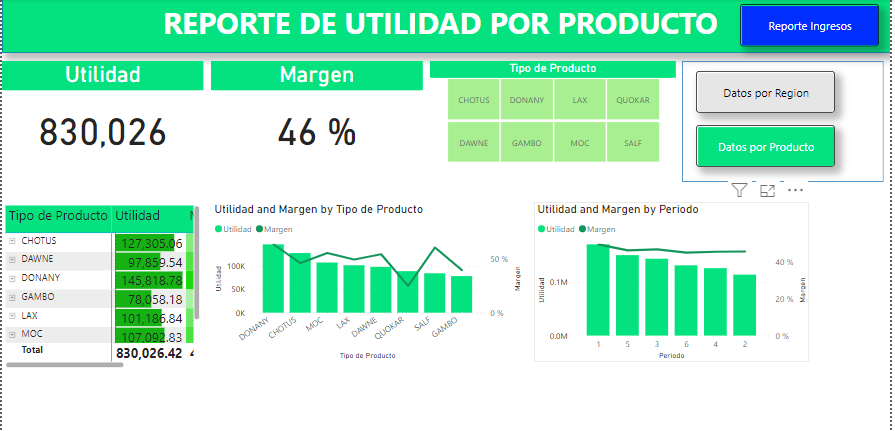

Layout of this report page (visuals, bound fields, positions):
{"tool":"powerbi","page":{"name":"Utilidad Producto","canvas":[1280,720],"ordinal":6},"visuals":[{"type":"shape","box":[978.7,89.1,290.3,173.9],"z":0},{"type":"shape","box":[0,0,1280.5,77.6],"z":1000},{"type":"card","title":"Utilidad","fields":{"Values":["Finanzas1.Utilidad"]},"box":[0,89.1,290.3,152.3],"z":2000},{"type":"card","title":"Margen","fields":{"Values":["Finanzas1.Margen"]},"box":[300.4,89.1,304.7,152.3],"z":3000},{"type":"slicer","title":"Tipo de Producto","fields":{"Values":["LookupProducto.Tipo de Producto"]},"box":[616.5,89.1,353.5,152.3],"z":4000},{"type":"pivotTable","fields":{"Rows":["LookupProducto.Tipo de Producto","Finanzas1.Producto"],"Values":["Finanzas1.Utilidad","Finanzas1.Margen"]},"box":[0,291.7,290.3,244.3],"z":5000},{"type":"lineClusteredColumnComboChart","fields":{"Y":["Finanzas1.Utilidad"],"Y2":["Finanzas1.Margen"],"Category":["Finanzas1.Periodo"]},"box":[766,291.7,396.6,231.4],"z":6000},{"type":"lineClusteredColumnComboChart","fields":{"Y":["Finanzas1.Utilidad"],"Y2":["Finanzas1.Margen"],"Category":["LookupProducto.Tipo de Producto"]},"box":[300.4,291.7,451.2,231.4],"z":7000},{"type":"textbox","box":[163,0,936.3,77],"z":8000},{"type":"actionButton","title":"Producto","box":[998.8,181.1,199.8,60.4],"z":9000},{"type":"actionButton","title":"Region","box":[998.8,103.5,200,60],"z":10000},{"type":"actionButton","title":"Producto","box":[1062.2,7.4,200,60.7],"z":10001}]}

Visuals, with their boxes on the page's 1280x720 design canvas (x1, y1, x2, y2). These are canvas units, not pixel positions in the 895x431 screenshot, which may show the page scaled, cropped or inside an application window:
shape: l=979, t=89, r=1269, b=263
shape: l=0, t=0, r=1280, b=78
"Utilidad" card: l=0, t=89, r=290, b=241
"Margen" card: l=300, t=89, r=605, b=241
"Tipo de Producto" slicer: l=616, t=89, r=970, b=241
pivotTable - LookupProducto.Tipo de Producto x Finanzas1.Producto: l=0, t=292, r=290, b=536
lineClusteredColumnComboChart - Finanzas1.Utilidad x Finanzas1.Margen: l=766, t=292, r=1163, b=523
lineClusteredColumnComboChart - Finanzas1.Utilidad x Finanzas1.Margen: l=300, t=292, r=752, b=523
textbox: l=163, t=0, r=1099, b=77
"Producto" actionButton: l=999, t=181, r=1199, b=242
"Region" actionButton: l=999, t=104, r=1199, b=164
"Producto" actionButton: l=1062, t=7, r=1262, b=68
